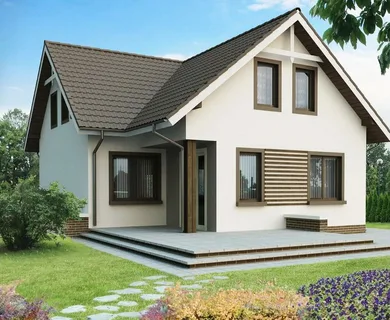private_hause: (45, 40, 369, 238)
